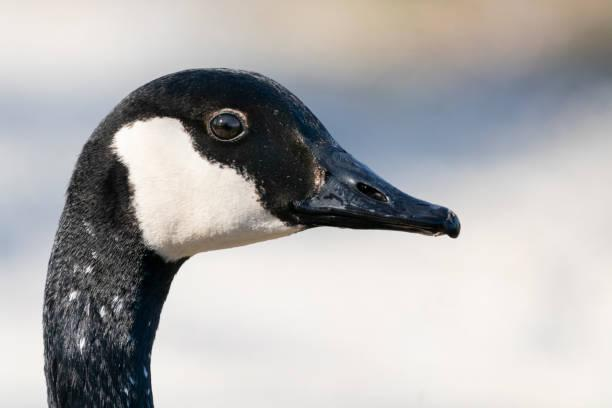Canadian-Goose: (35, 64, 464, 408)
